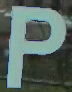Parking: (7, 3, 67, 91)
